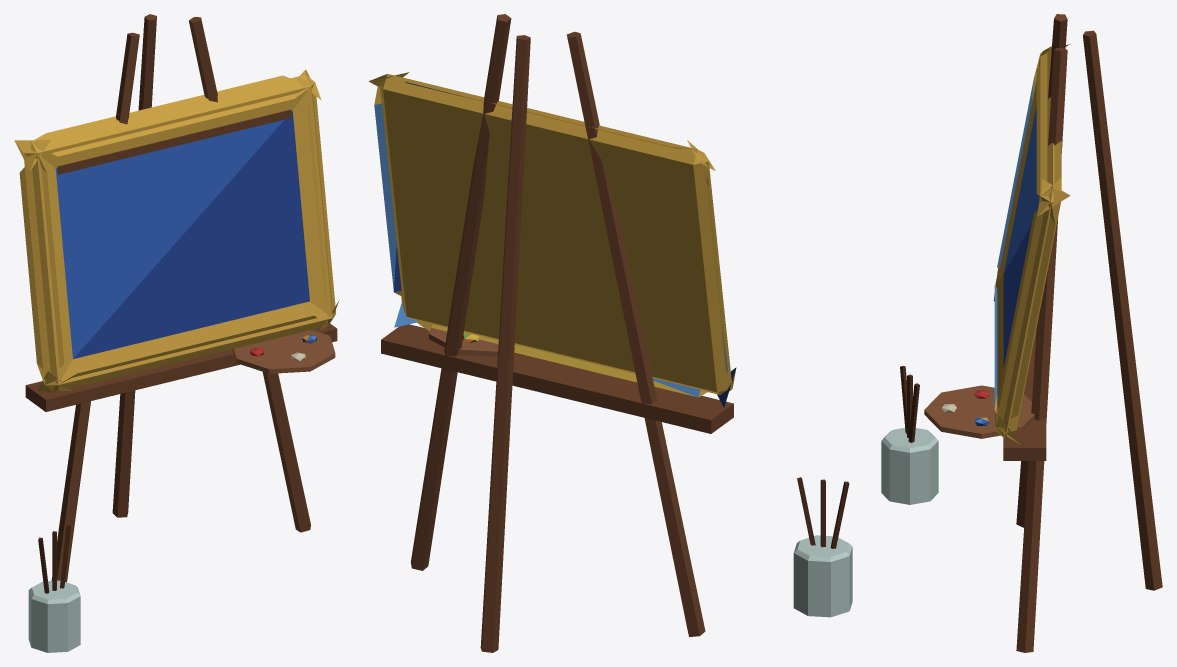
Rendered from kit-paris-decor-1.glb.
The picture shows the model from 3 angles, left to right: view 1: azimuth 30°, elevation 25°; view 2: azimuth 150°, elevation 25°; view 3: azimuth 270°, elevation 25°; orthographic projection. The views are drawn at different scales.
Visible parts, largest first — view 1: kit-paris-decor-1; view 2: kit-paris-decor-1; view 3: kit-paris-decor-1.
Boxes of the visible parts, box(x1,y1,x2,y2) form: kit-paris-decor-1: box(14, 14, 339, 652); kit-paris-decor-1: box(369, 14, 852, 652); kit-paris-decor-1: box(881, 14, 1162, 652).
Bounding box in the file's own units: 1.21 × 1.71 × 0.7836.
